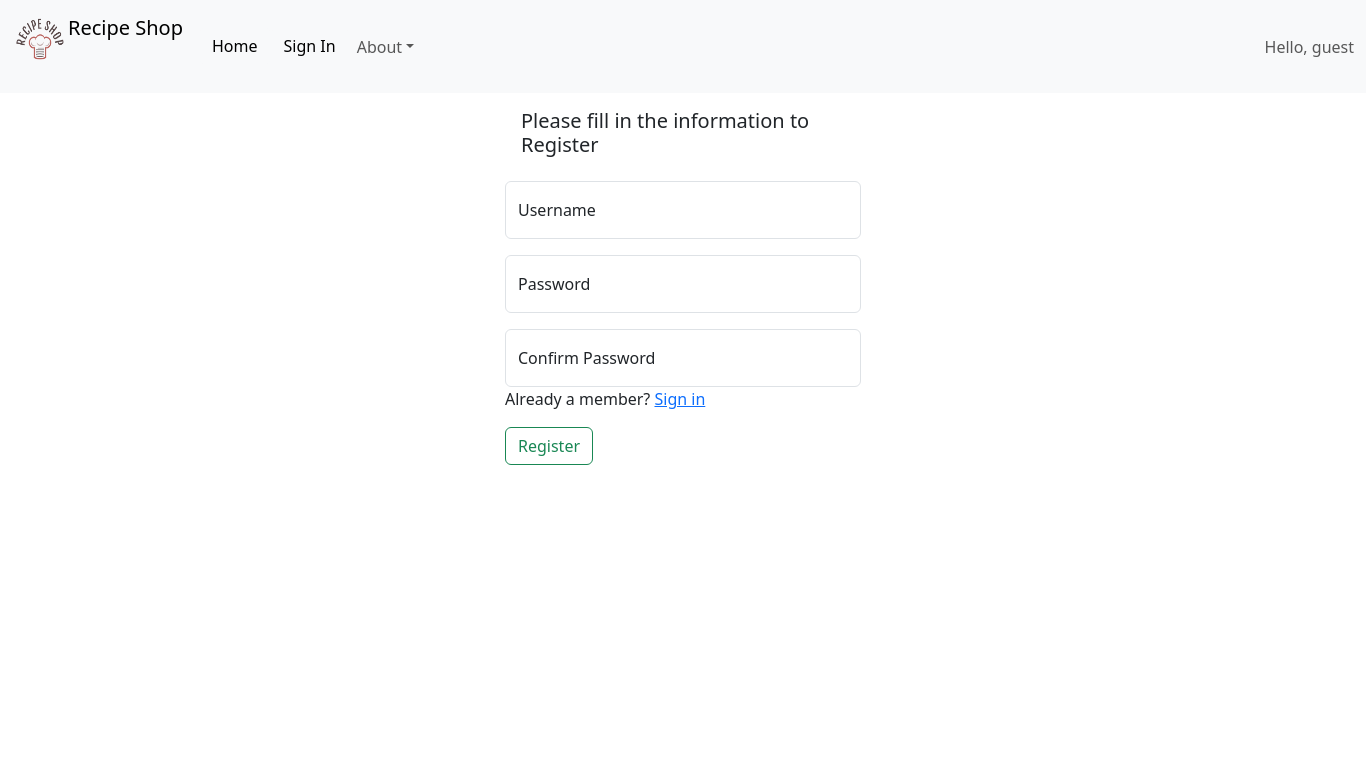
Test: Register page UI functionality › Register can be clicked
This screenshot has width=1366, height=768.
Type "Hello123" into the field with test id "r_username" at (683, 210), box x1=505 y1=181 x2=861 y2=239
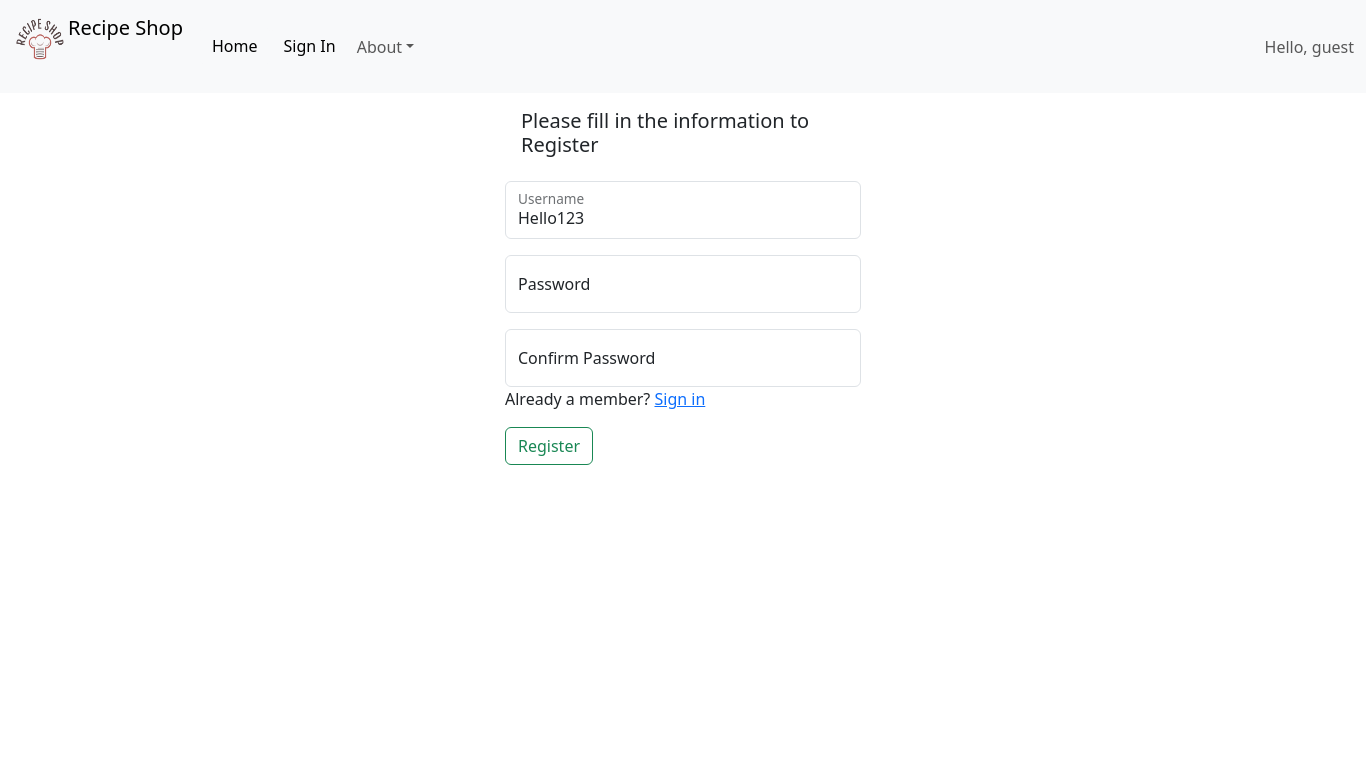
Type "Hello123" into the password field with test id "r_password" at (683, 284), box x1=505 y1=255 x2=861 y2=313
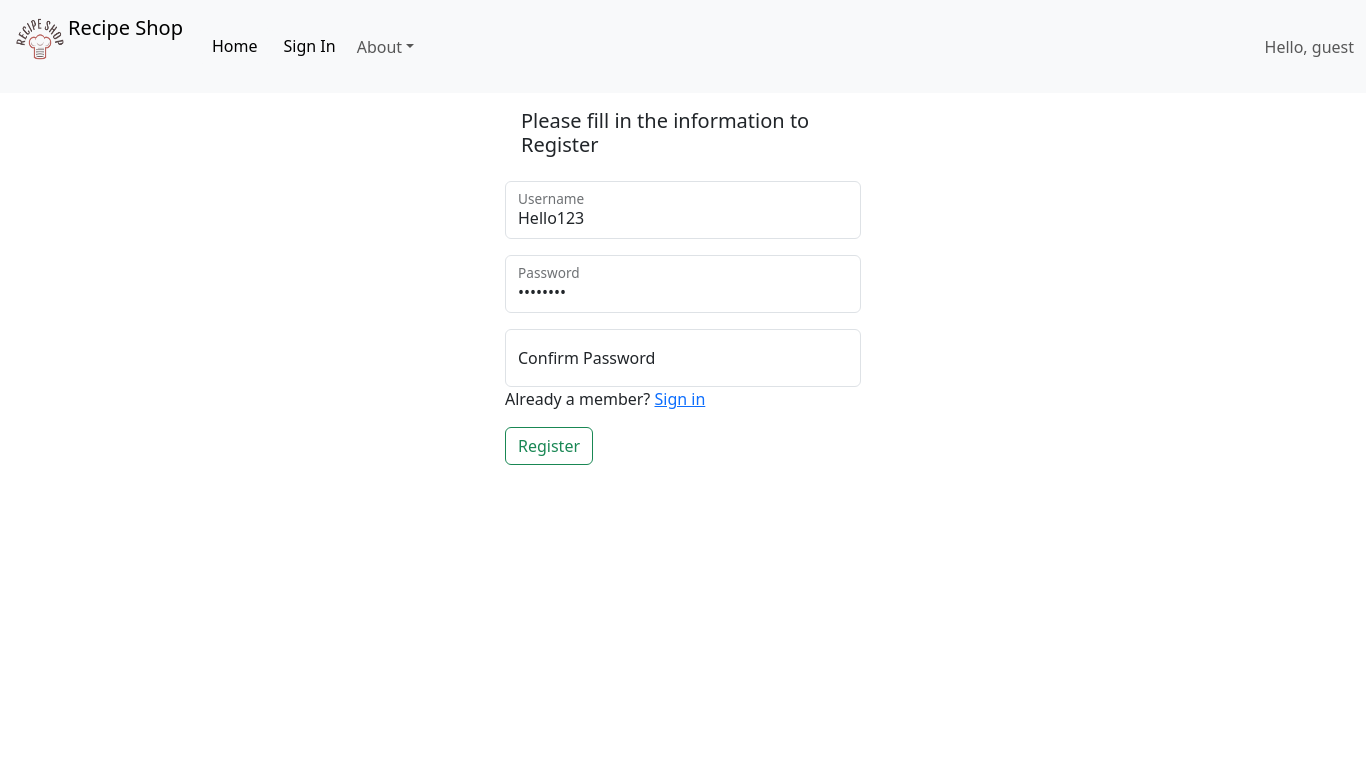
Type "Hello123" into the password field with test id "repeat_password" at (683, 358), box x1=505 y1=329 x2=861 y2=387
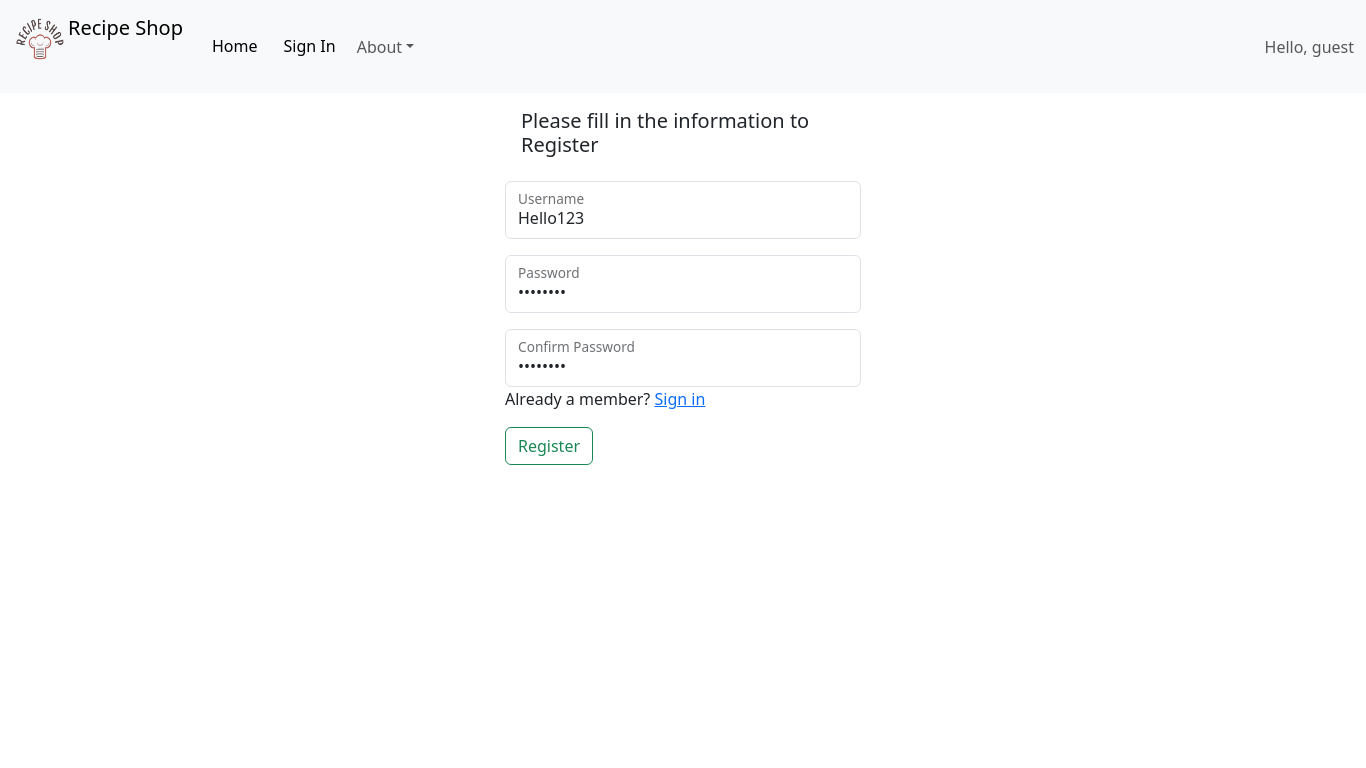
Click the button "Register" at (549, 446), box x1=505 y1=427 x2=593 y2=465
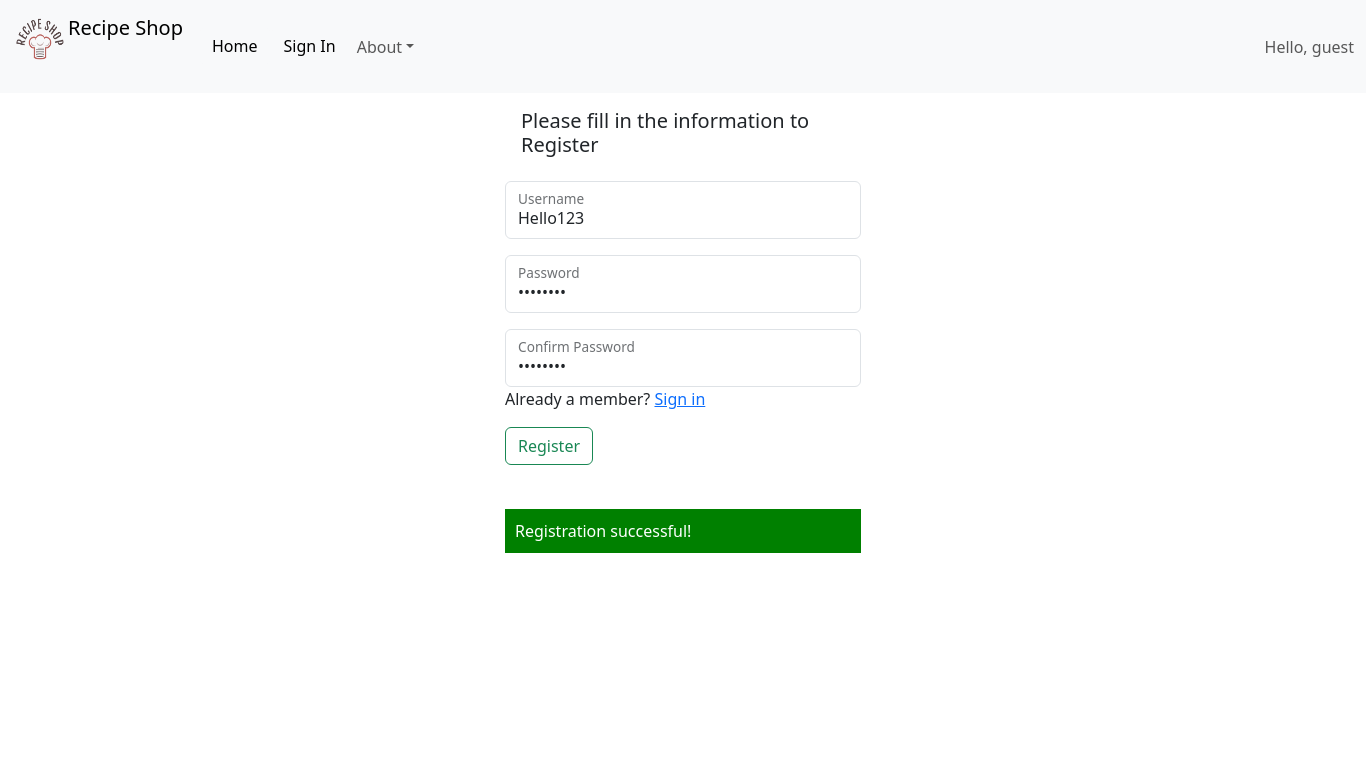
Expected: the text "Registration successful!" is shown, x1=505 y1=509 x2=861 y2=553
